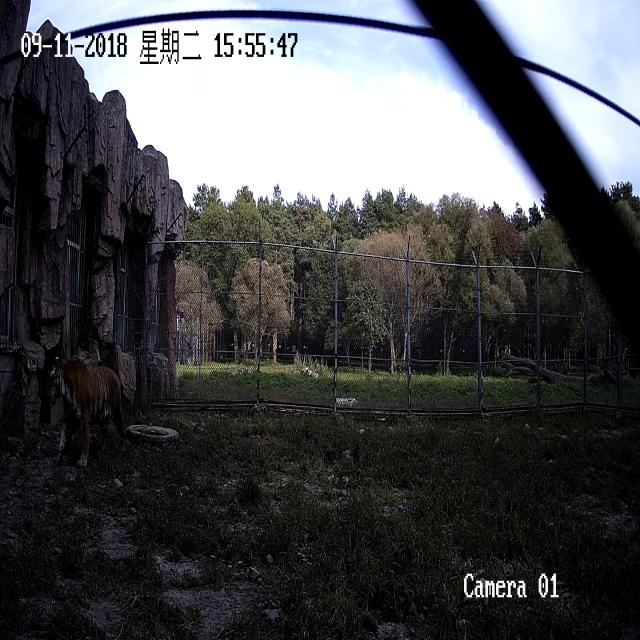Tiger: (50, 353, 130, 480)
